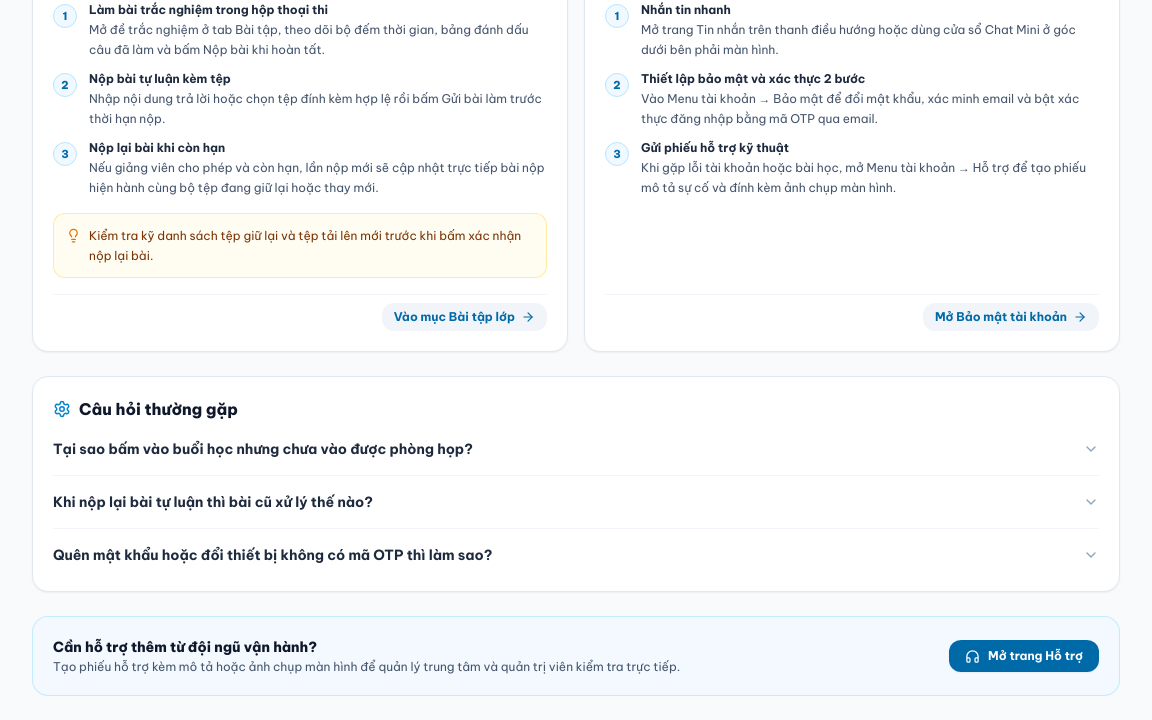
Test case: GuideScreen › đóng mở câu hỏi thường gặp và liên kết tới trang Hỗ trợ
(page scrolled)
What coordinates should you click on to do the following:
click the button "Tại sao bấm vào buổi học nhưng chưa vào được phòng họp?"
I would click on:
 (263, 449)
Its box is [53,433,1099,465].
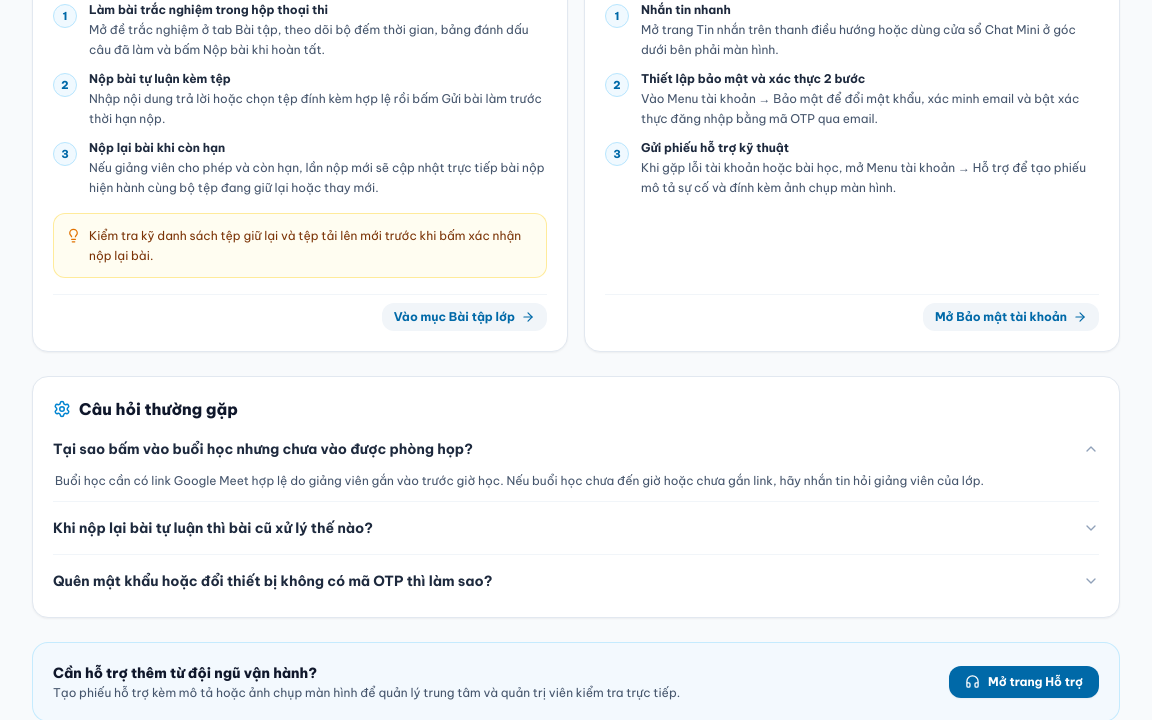
Check: the button "Tại sao bấm vào buổi học nhưng chưa vào được phòng họp?" is expanded
Check: the text "Buổi học cần có link Google Meet hợp lệ" is shown, box [55,473,984,488]
What coordinates should you click on to do the following:
click the button "Tại sao bấm vào buổi học nhưng chưa vào được phòng họp?"
I would click on:
 (263, 449)
Its box is [53,433,1099,465].
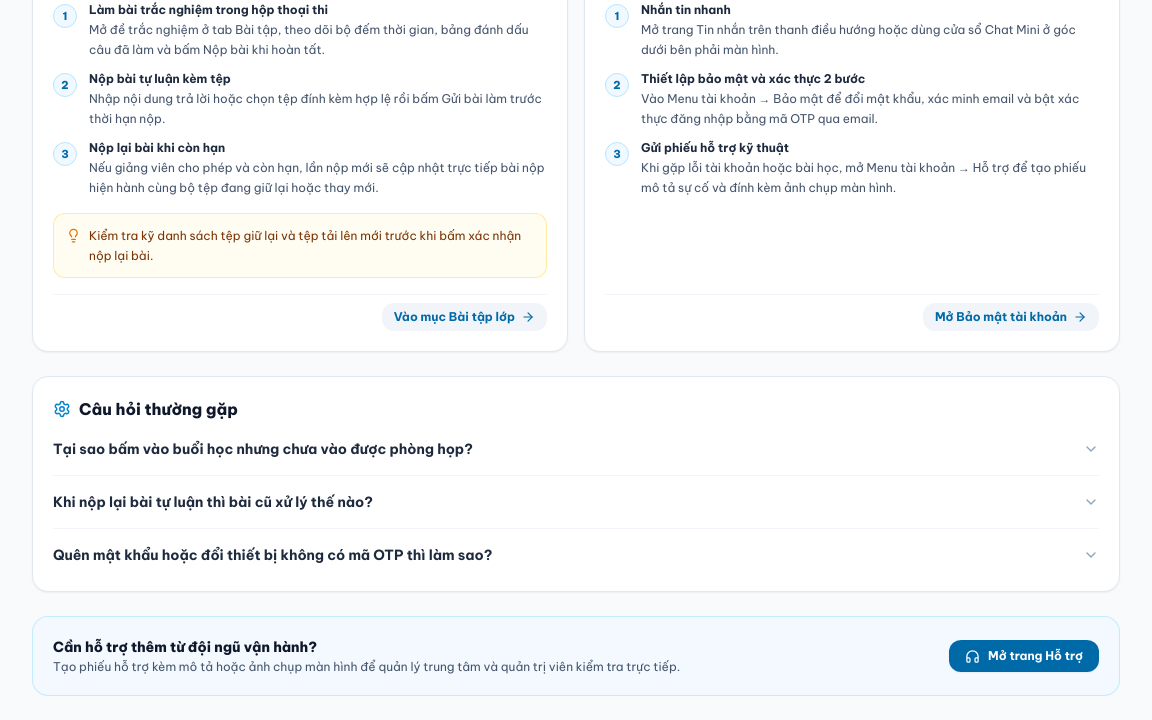
Check: the button "Tại sao bấm vào buổi học nhưng chưa vào được phòng họp?" is collapsed, box [53,433,1099,465]
